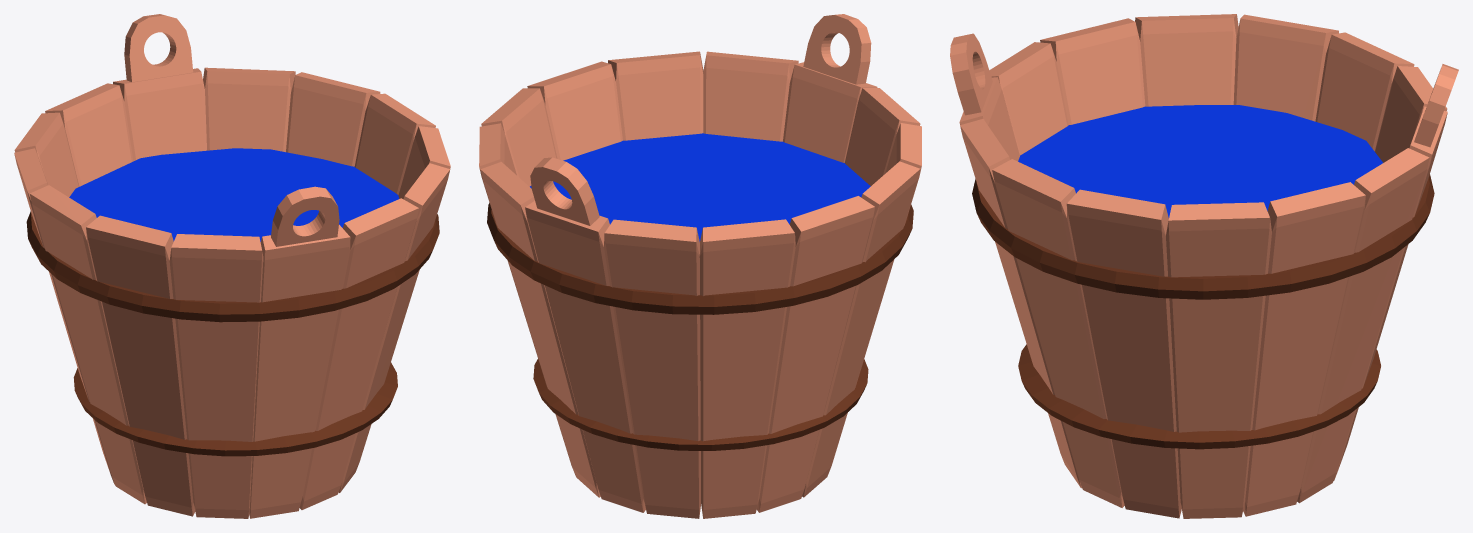
File: Bucket_1_Water.fbx
3 views of the same model, side by side, from view 1: azimuth 30°, elevation 25°; view 2: azimuth 150°, elevation 25°; view 3: azimuth 270°, elevation 25° (orthographic). The views are drawn at different scales.
Visible parts, largest first — view 1: Cube.076, Circle.005; view 2: Cube.076, Circle.005; view 3: Cube.076, Circle.005.
Part boxes in pixels (x1,y1,x2,y2): Cube.076: [14, 14, 450, 518]; Circle.005: [69, 148, 399, 241]; Cube.076: [479, 14, 921, 518]; Circle.005: [530, 133, 870, 241]; Cube.076: [950, 14, 1458, 518]; Circle.005: [1018, 105, 1382, 217].
Bounding box in the file's own units: 366 × 340 × 384.
